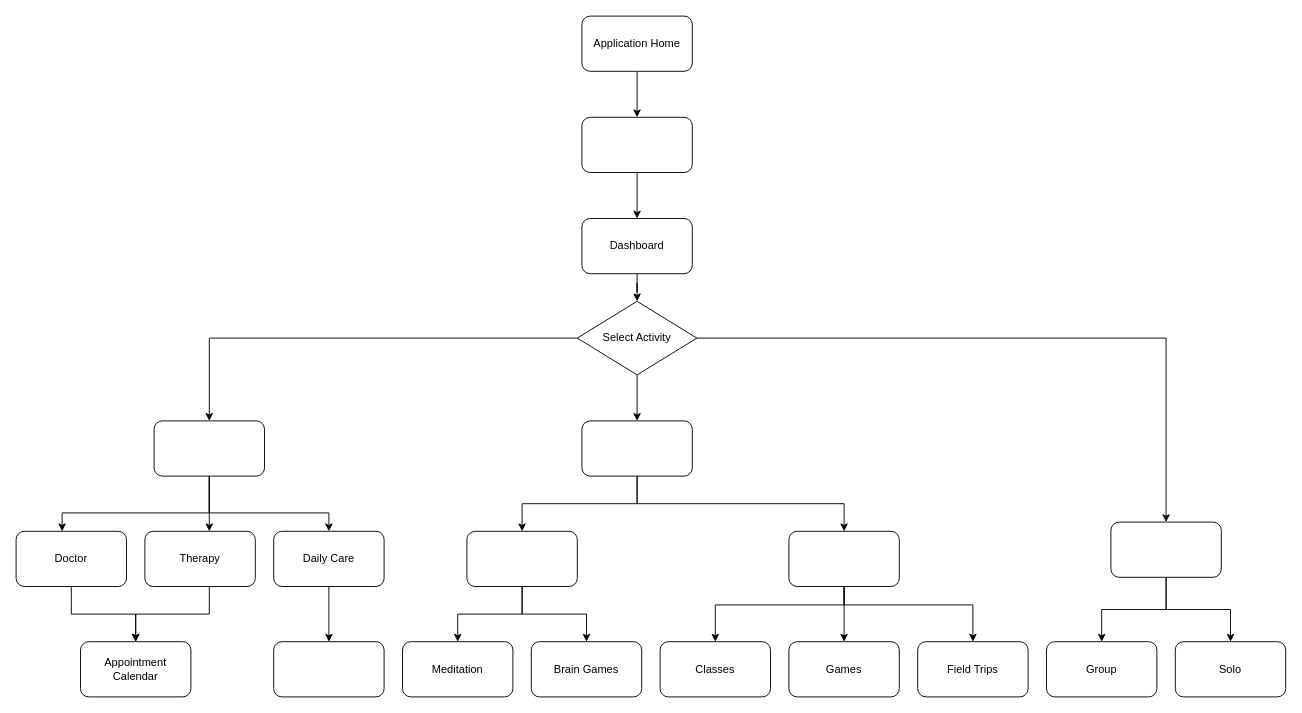
Image size: 1302x713. Some labels were removed from this diagram. The shapes that lost their labels are listed below. From the top down, each one's box as (x1, y1, x2, y2) in pixels, then its label:
(581, 116, 692, 172): Login
(153, 420, 264, 476): Personal Care
(581, 420, 692, 476): Mental Wellness
(466, 530, 577, 586): Individual
(788, 530, 899, 586): Group Activities
(1110, 521, 1221, 577): Physical Excercise
(273, 641, 384, 697): Daily Reminders
